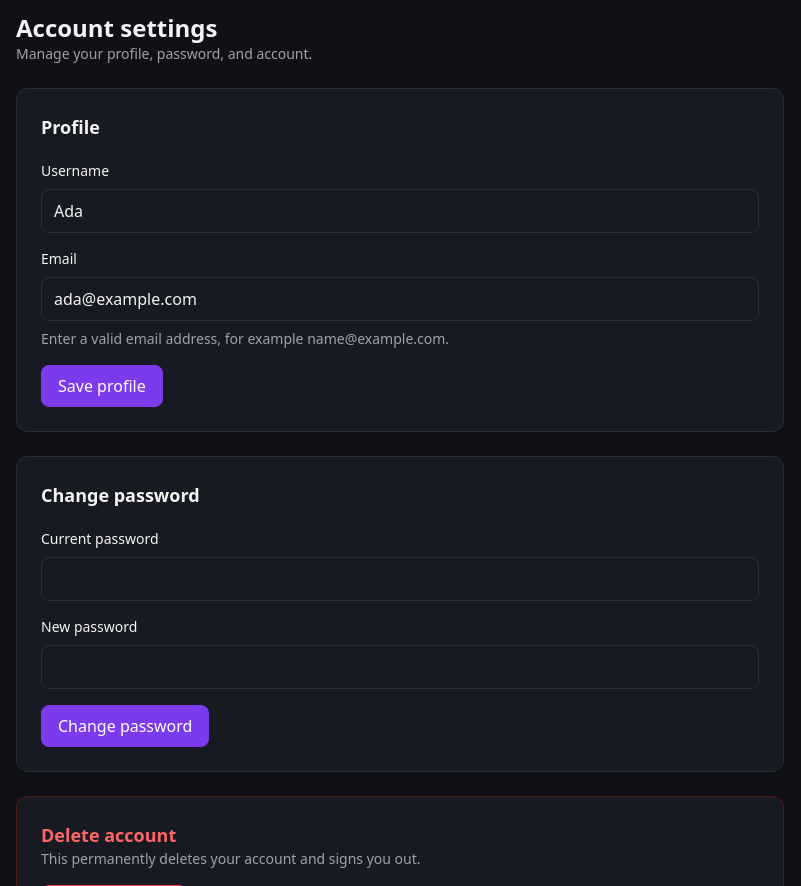
Phase 10 account settings › keeps server-side profile errors distinct from email guidance
Expected: the field showing "Ada" is shown, [41,189,759,233]
Click the button "Save profile".
click(102, 386)  # box [41,365,163,407]
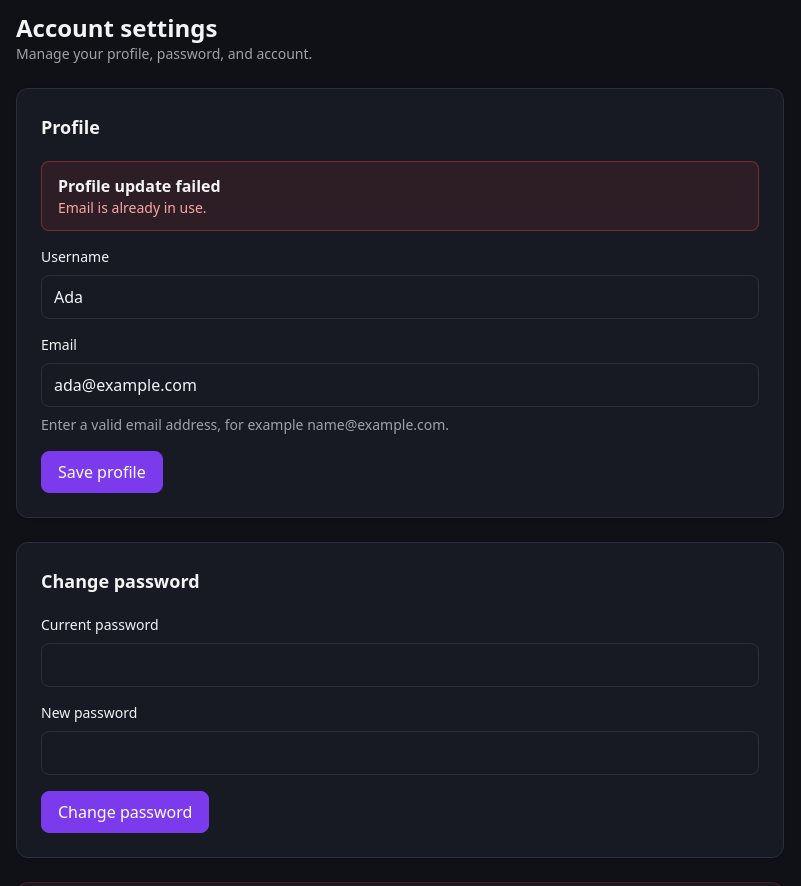
Expected: the message shows "Email is already in use.", [58,198,207,217]
